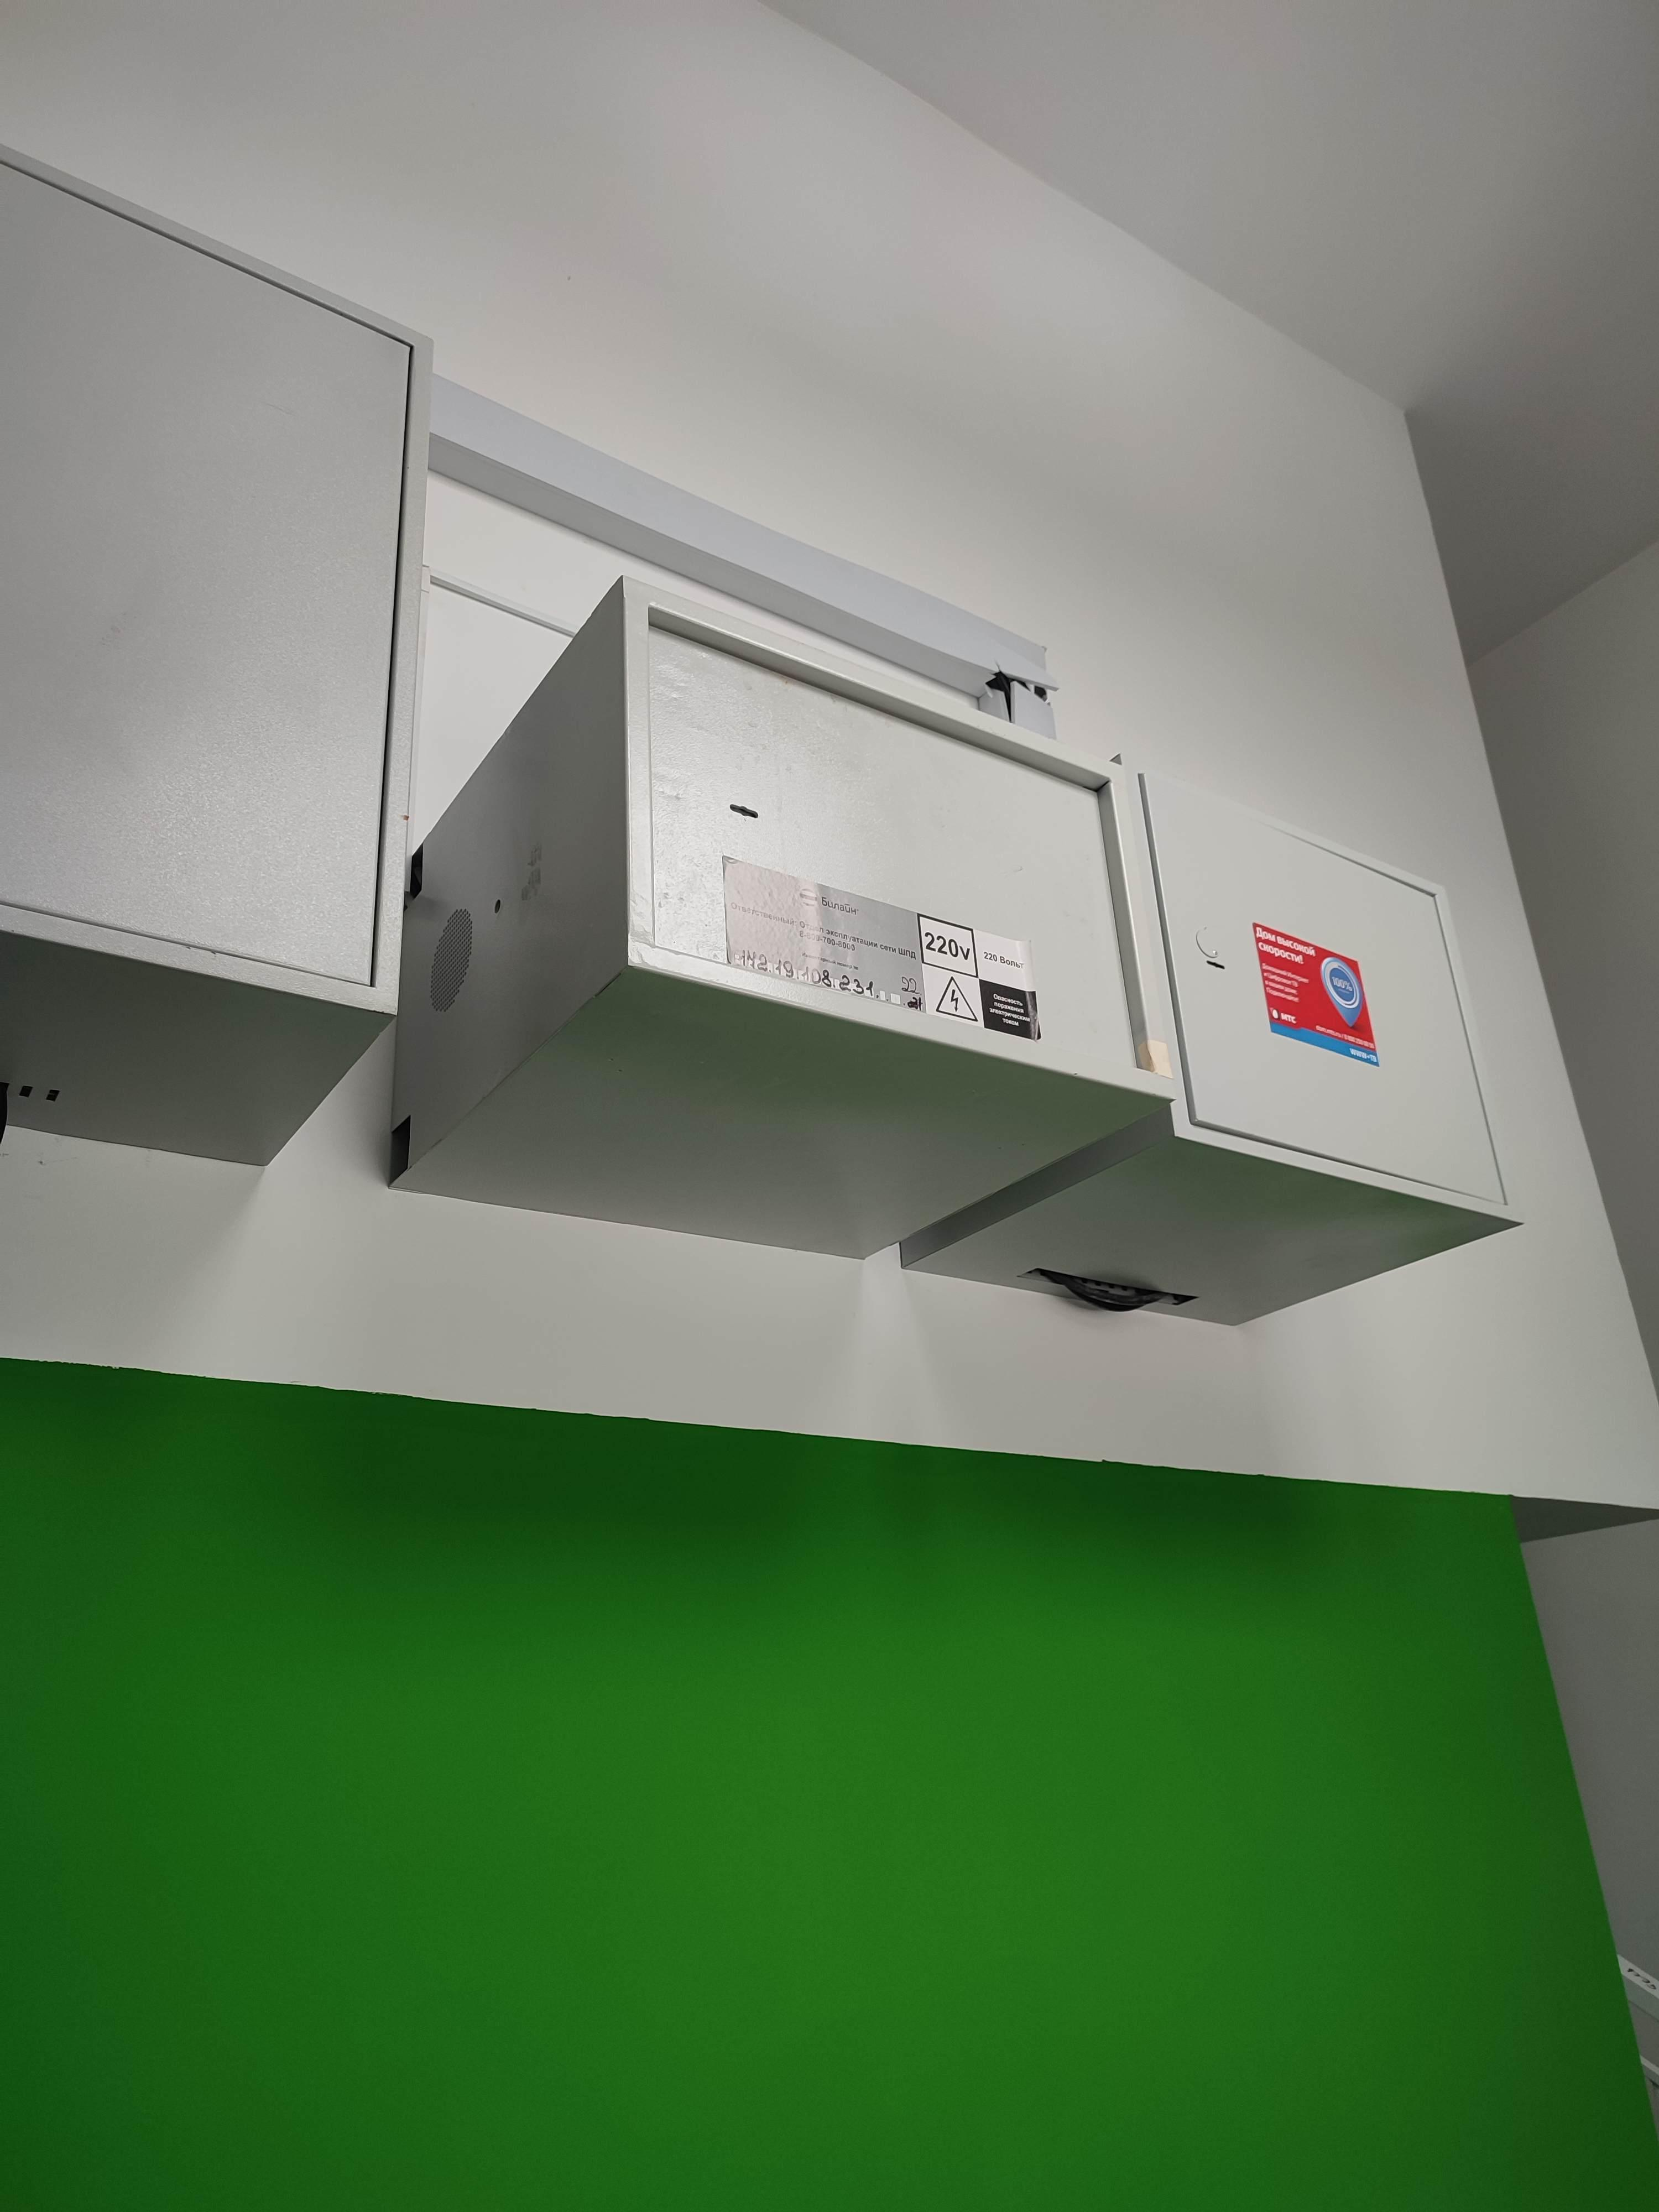shta-7m: (383, 570, 1183, 1271)
